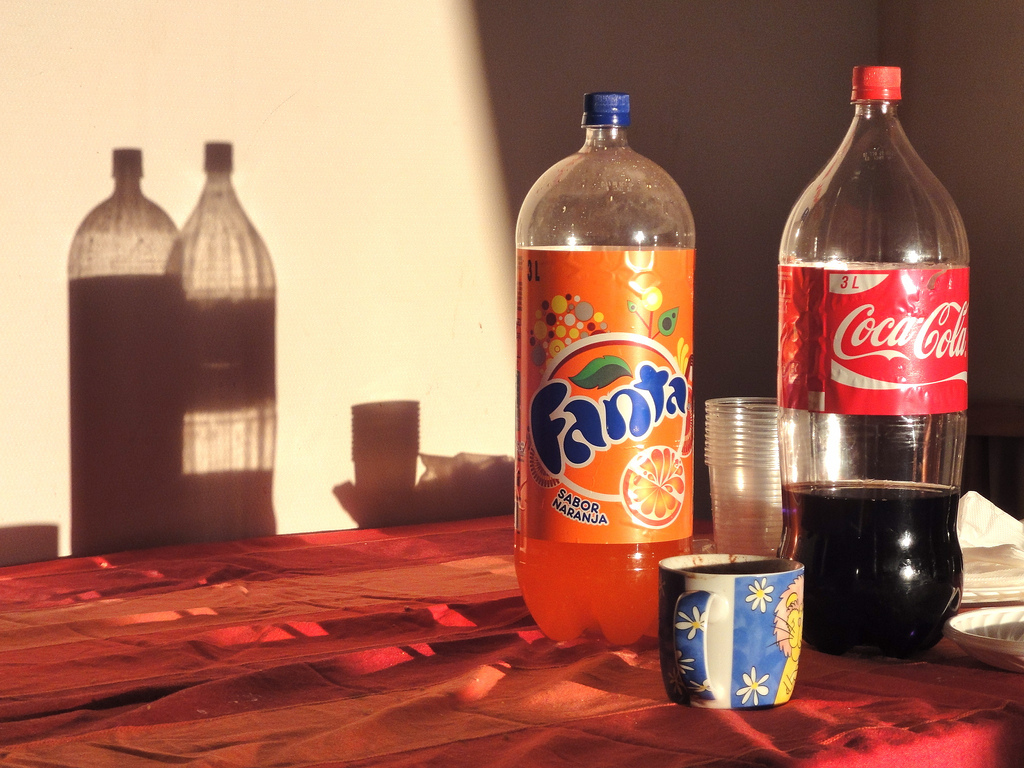fanta: (512, 96, 698, 652)
